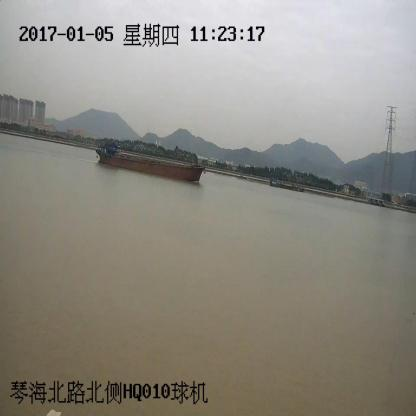Bulk Carrier: (97, 143, 205, 180)
